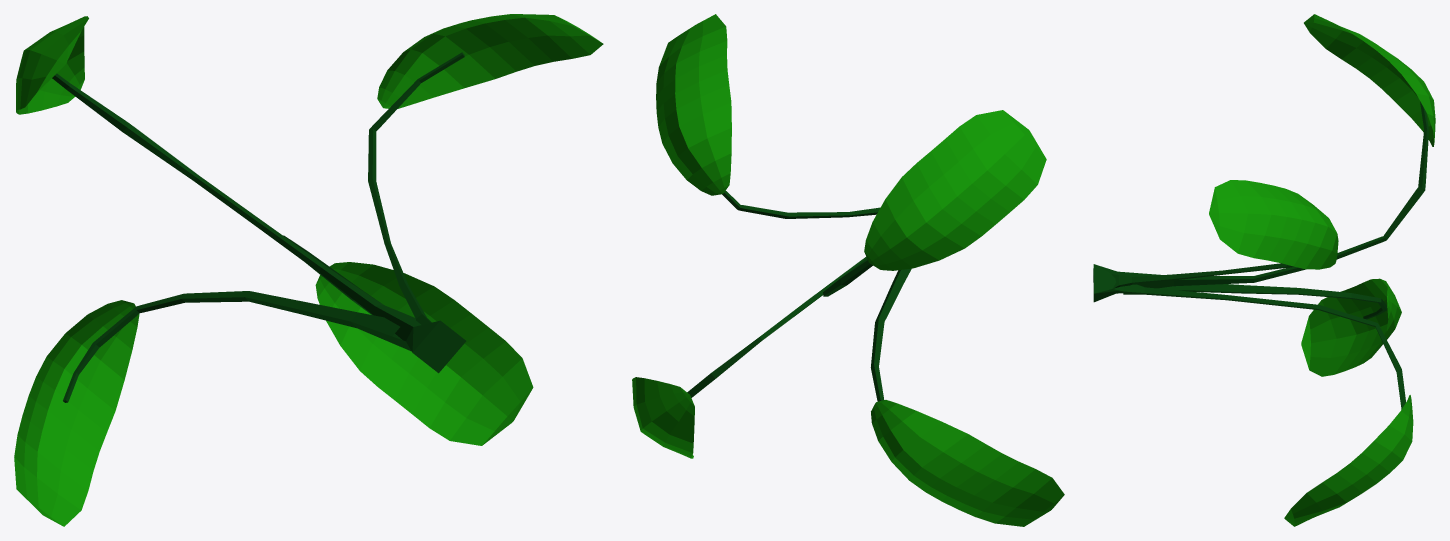
Rendered from Plant2.2.fbx.
3 views of the same model, side by side, from view 1: azimuth 30°, elevation 25°; view 2: azimuth 150°, elevation 25°; view 3: azimuth 270°, elevation 25° (orthographic). The views are drawn at different scales.
Visible parts, largest first — view 1: Plant2; view 2: Plant2; view 3: Plant2.
Part boxes in pixels (x1,y1,x2,y2): Plant2: (14,14,603,526); Plant2: (632,14,1064,526); Plant2: (1093,14,1435,526).
Bounding box in the file's own units: 539 × 488 × 406.
